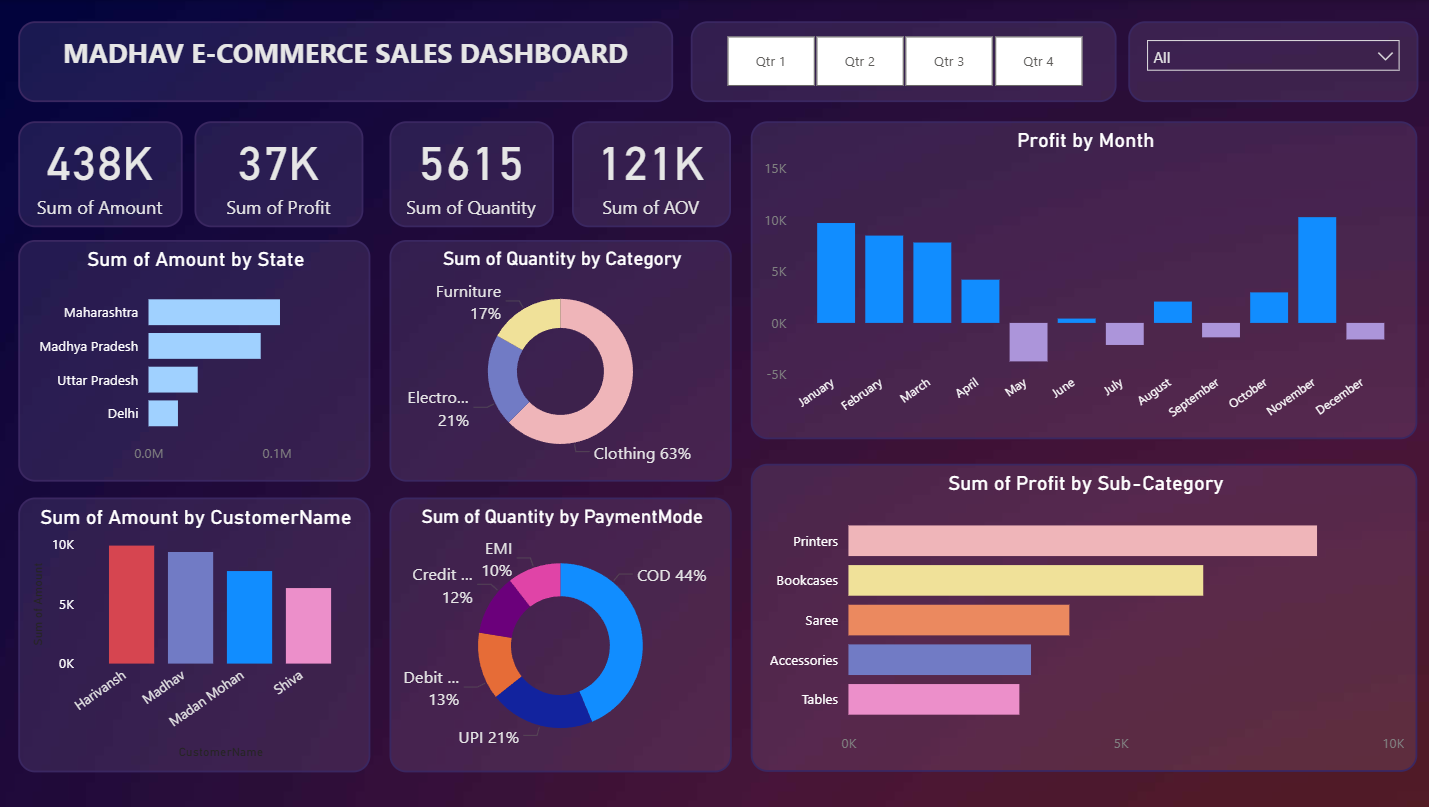

The page's visual inventory and layout, read from the dashboard file:
{"tool":"powerbi","page":{"name":"Page 1","canvas":[1280,720],"ordinal":0},"visuals":[{"type":"textbox","box":[19.4,19.4,583.4,71.6],"z":0},{"type":"columnChart","title":"Profit by Month","fields":{"Y":["Sum(Details.Profit)"],"Category":["Orders.Order Date.Variation.Date Hierarchy.Month"]},"box":[671.5,107.4,593.9,283.5],"z":1000},{"type":"barChart","fields":{"Category":["Details.Sub-Category"],"Y":["Sum(Details.Profit)"]},"box":[671.5,413.3,593.9,274.6],"z":2000},{"type":"donutChart","fields":{"Y":["Sum(Details.Quantity)"],"Category":["Details.Category"]},"box":[349.2,213.4,304.4,214.9],"z":3000},{"type":"donutChart","fields":{"Y":["Sum(Details.Quantity)"],"Category":["Details.PaymentMode"]},"box":[349.2,443.2,304.4,244.7],"z":4000},{"type":"card","fields":{"Values":["Sum(Details.Amount)"]},"box":[19.4,107.4,146.2,94],"z":5000},{"type":"card","fields":{"Values":["Sum(Details.Quantity)"]},"box":[349.2,107.4,146.2,94],"z":6000},{"type":"card","fields":{"Values":["Sum(Details.Profit)"]},"box":[176.1,107.4,150.7,94],"z":7000},{"type":"card","fields":{"Values":["Sum(Details.AOV)"]},"box":[511.8,107.4,141.8,94],"z":8000},{"type":"barChart","fields":{"Category":["Orders.State"],"Y":["Sum(Details.Amount)"]},"box":[19.4,213.4,313.4,214.9],"z":9000},{"type":"columnChart","fields":{"Category":["Orders.CustomerName"],"Y":["Sum(Details.Amount)"]},"box":[19.4,443.2,313.4,244.7],"z":10000},{"type":"slicer","fields":{"Values":["Orders.Order Date.Variation.Date Hierarchy.Quarter"]},"box":[617.8,19.4,379,71.6],"z":10001},{"type":"slicer","fields":{"Values":["Orders.State"]},"box":[1007.2,19.4,258.1,71.6],"z":10002}]}

Visuals, with their boxes in screenshot pixels (x1, y1, x2, y2), scaled from the page's 1280x720 canvas onto the 1429x807 screenshot:
textbox: <region>22, 22, 673, 102</region>
"Profit by Month" columnChart: <region>750, 120, 1413, 438</region>
barChart - Details.Sub-Category x Sum(Details.Profit): <region>750, 463, 1413, 771</region>
donutChart - Sum(Details.Quantity) x Details.Category: <region>390, 239, 730, 480</region>
donutChart - Sum(Details.Quantity) x Details.PaymentMode: <region>390, 497, 730, 771</region>
card - Sum(Details.Amount): <region>22, 120, 185, 226</region>
card - Sum(Details.Quantity): <region>390, 120, 553, 226</region>
card - Sum(Details.Profit): <region>197, 120, 365, 226</region>
card - Sum(Details.AOV): <region>571, 120, 730, 226</region>
barChart - Orders.State x Sum(Details.Amount): <region>22, 239, 372, 480</region>
columnChart - Orders.CustomerName x Sum(Details.Amount): <region>22, 497, 372, 771</region>
slicer - Orders.Order Date.Variation.Date Hierarchy.Quarter: <region>690, 22, 1113, 102</region>
slicer - Orders.State: <region>1124, 22, 1413, 102</region>
